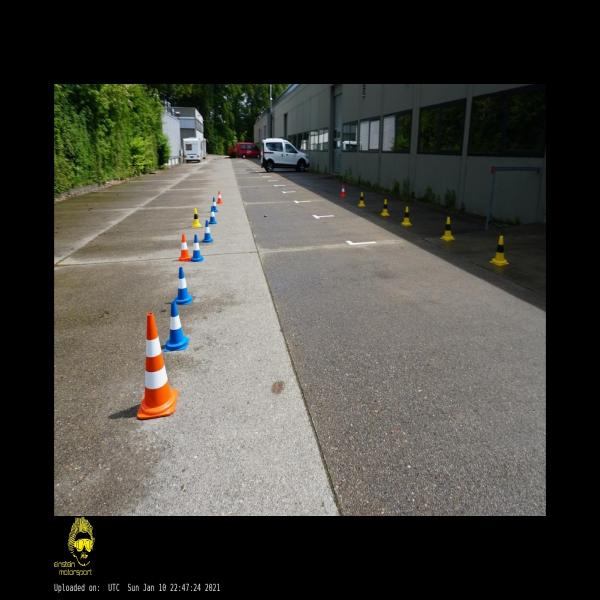blue_cone: (164, 302, 190, 351), (174, 266, 192, 305), (191, 234, 203, 262), (203, 220, 213, 242), (208, 206, 218, 225), (213, 197, 218, 212)
large_orange_cone: (137, 313, 178, 420)
orange_cone: (179, 234, 191, 262), (216, 191, 222, 203), (340, 185, 346, 197)
yellow_cone: (489, 236, 509, 265), (440, 217, 455, 241), (401, 206, 412, 225), (192, 208, 201, 227), (380, 199, 390, 216), (357, 192, 366, 206)
